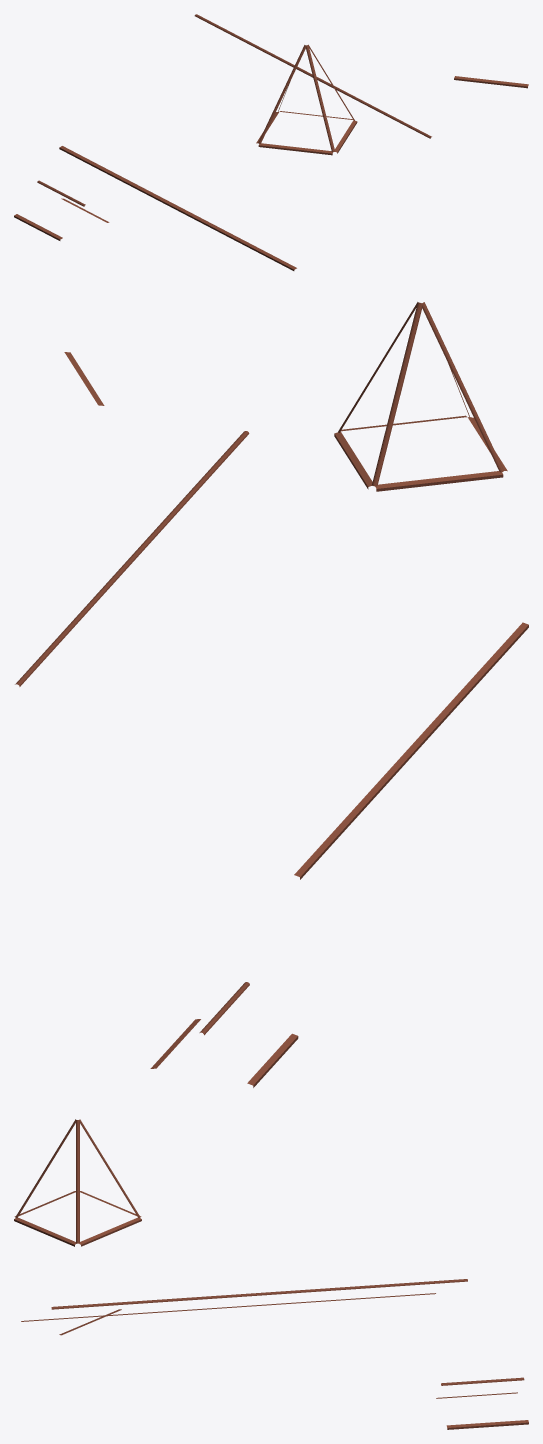
3 views of the same model, one above another, from view 1: azimuth 30°, elevation 25°; view 2: azimuth 150°, elevation 25°; view 3: azimuth 270°, elevation 25° (orthographic). The views are drawn at different scales.
Visible parts, largest first — view 1: detail; view 2: detail; view 3: detail.
Boxes of the visible parts, x1,y1,x2,y2 form: detail: [14, 14, 528, 270]; detail: [15, 302, 528, 1087]; detail: [14, 1119, 528, 1429].
Bounding box in the file's own units: 30.03 × 26.92 × 38.05.
